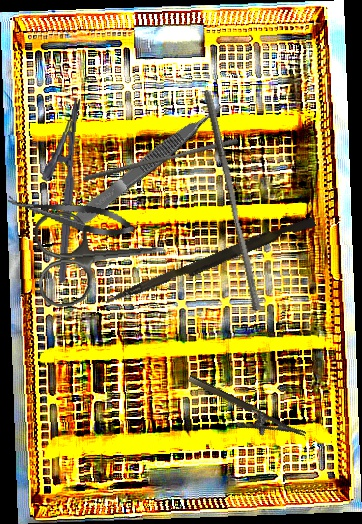Iris Scissors: (33, 201, 168, 310)
Micro Scissor: (4, 187, 138, 243)
Needle Holder: (179, 373, 307, 456), (32, 94, 83, 284)
Pusher: (103, 210, 317, 314), (194, 89, 270, 312), (82, 132, 239, 188)
Tissue Forceps: (66, 99, 229, 232)
